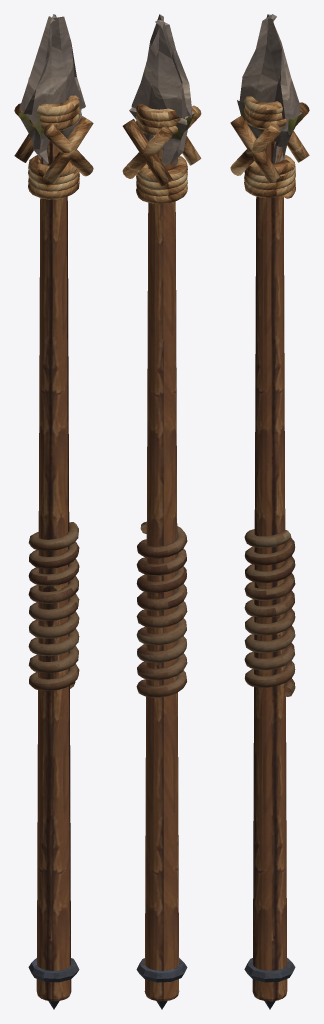
File: spear_stone.glb
3 renders of one model, left to right at view 1: azimuth 30°, elevation 25°; view 2: azimuth 150°, elevation 25°; view 3: azimuth 330°, elevation 25°, orthographic.
Parts seen in each view (by area): view 1: model; view 2: model; view 3: model.
Boxes of the visible parts, x1=… form: model: x1=14, y1=14, x2=93, y2=1009; model: x1=122, y1=14, x2=201, y2=1009; model: x1=230, y1=14, x2=309, y2=1009.
Size of the model in its own units: 0.0912 by 1.46 by 0.0931.
8 materials, 8 textured.
